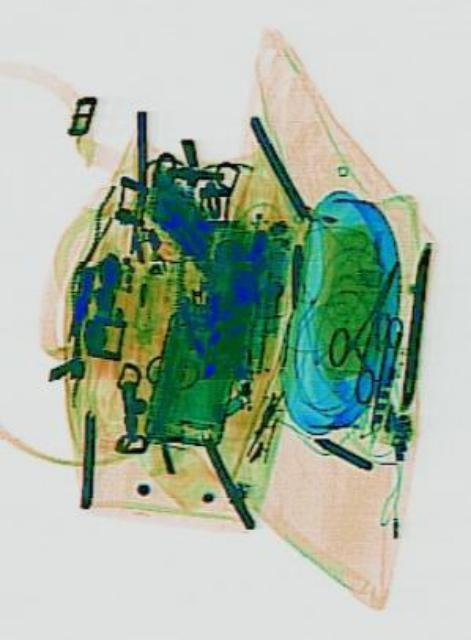Scissors: (310, 241, 424, 409), (351, 307, 401, 437)
